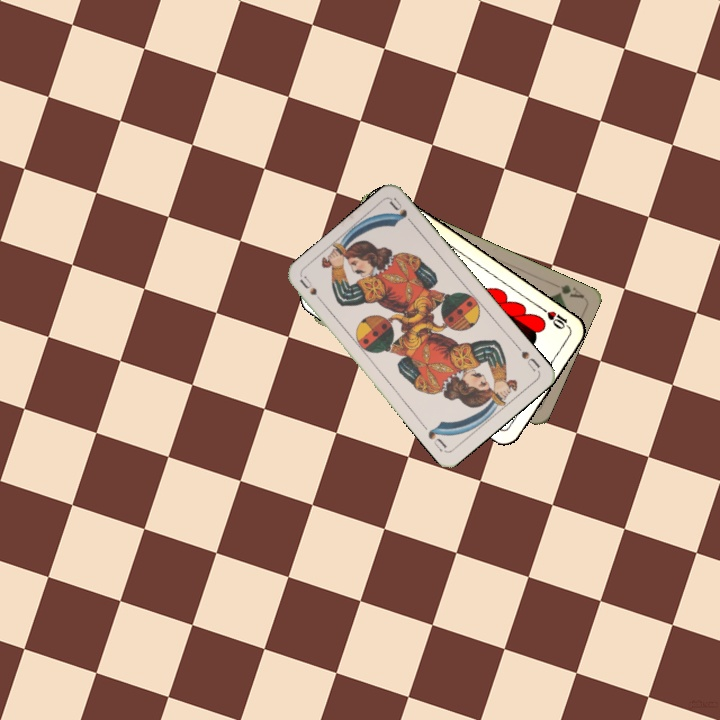GA: (552, 280, 586, 301)
H10: (538, 303, 573, 332)
SU: (296, 272, 328, 308), (511, 340, 543, 375)
